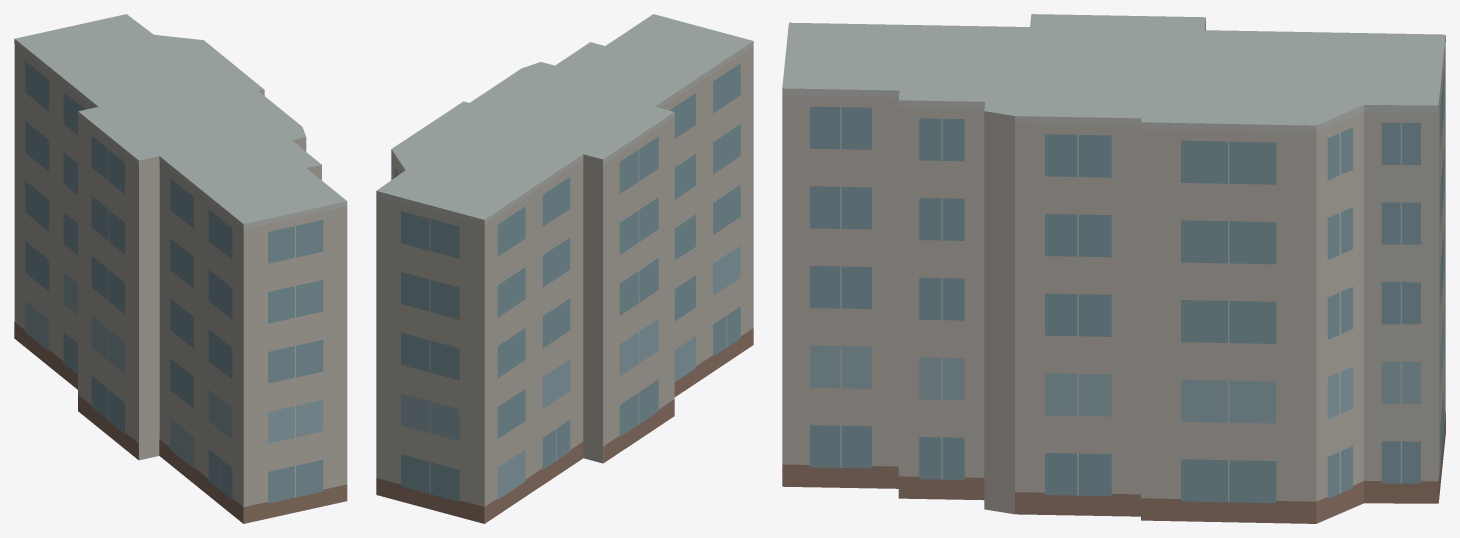
File: survey-upis-32575608.glb
3 renders of one model, left to right at view 1: azimuth 30°, elevation 25°; view 2: azimuth 150°, elevation 25°; view 3: azimuth 270°, elevation 25°, orthographic. The views are drawn at different scales.
Visible parts, largest first — view 1: survey-upis-32575608.tmp; view 2: survey-upis-32575608.tmp; view 3: survey-upis-32575608.tmp.
Boxes of the visible parts, bbox=[...] form: survey-upis-32575608.tmp: bbox=[14, 14, 347, 523]; survey-upis-32575608.tmp: bbox=[376, 14, 753, 523]; survey-upis-32575608.tmp: bbox=[782, 14, 1445, 523].
Bounding box in the file's own units: 8.54 × 14.2 × 21.45.
